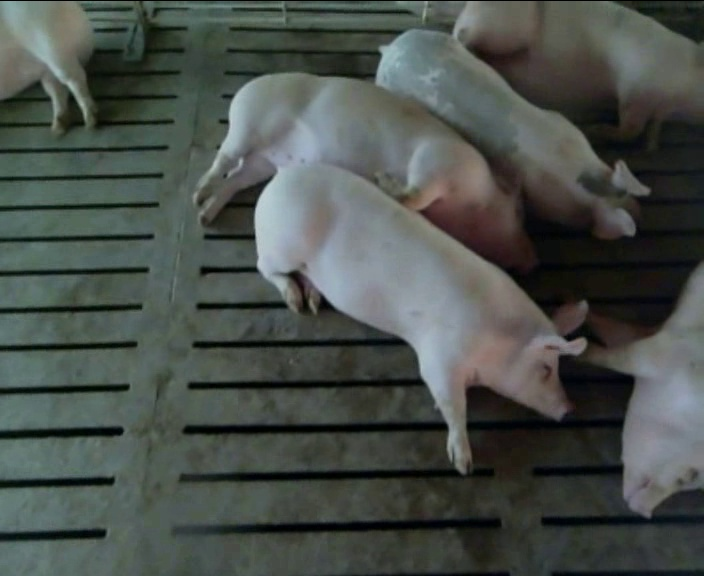pig: (255, 164, 586, 473), (193, 73, 535, 270), (376, 30, 649, 238), (454, 2, 703, 150), (584, 262, 703, 516)
